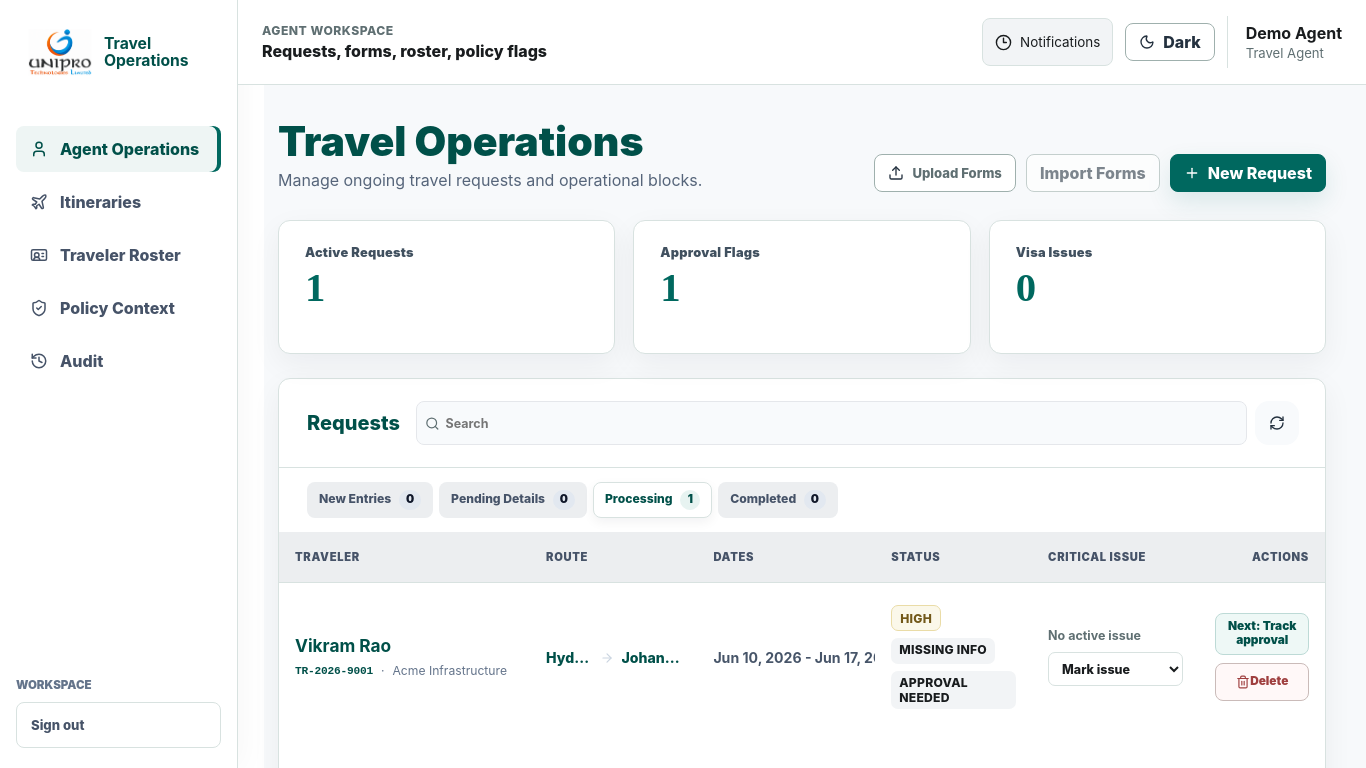
Scenario: AI Corporate Travel Planning Assistant MVP › deletes requests from the queue after confirmation
Check: the text "Vikram Rao" is shown, box [295,635,391,656]
Click the button with aria-label "Delete request for Vikram Rao": (1262, 682) [1216,663,1309,701]
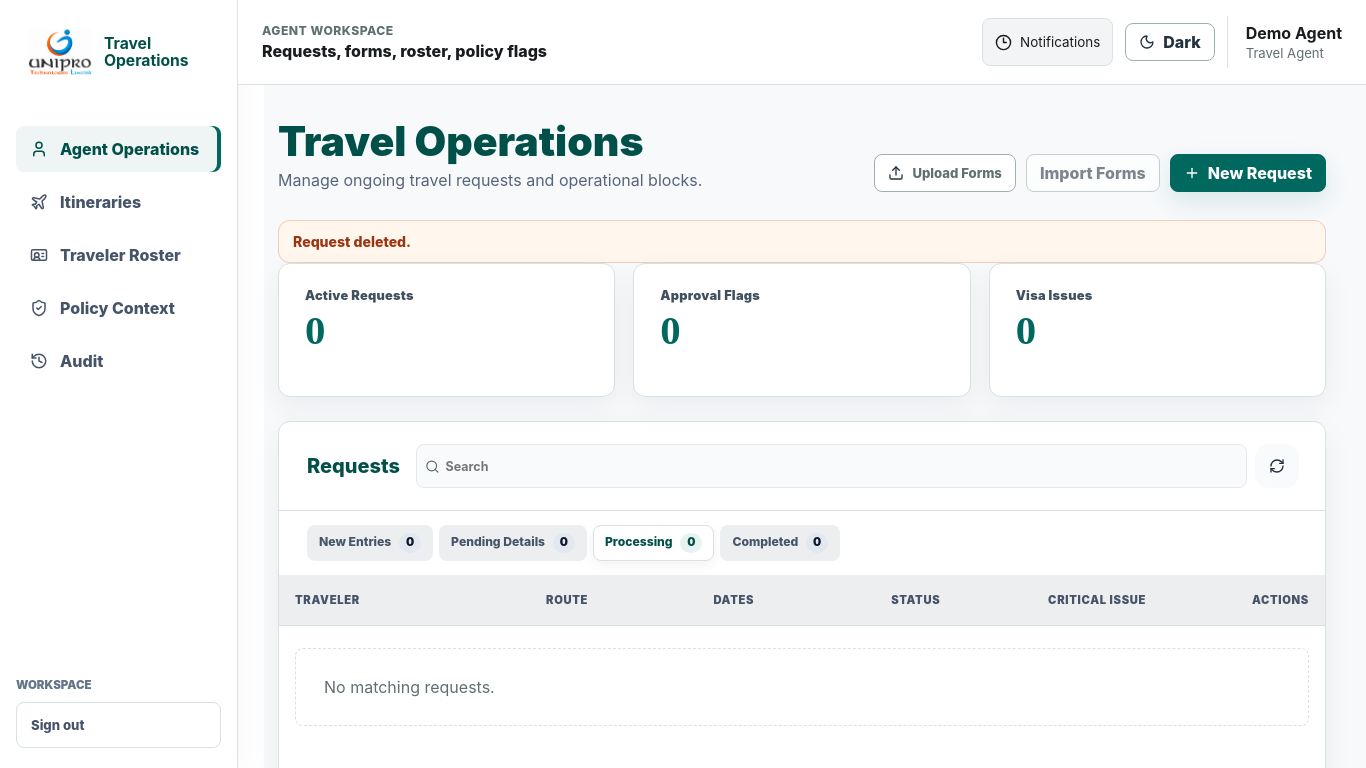
Check: the message reads "Request deleted.", box [293,233,411,250]
Check: the text "Vikram Rao" is gone
